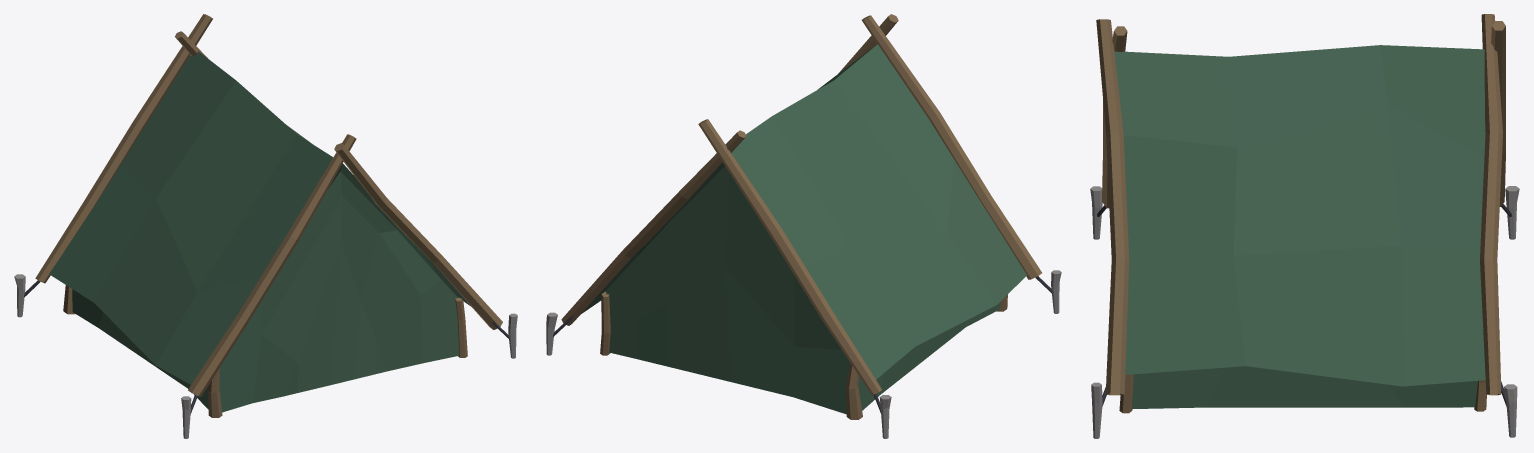
The model's file is tent_3.glb.
3 views of the same model, side by side, from view 1: azimuth 30°, elevation 25°; view 2: azimuth 150°, elevation 25°; view 3: azimuth 270°, elevation 25° (orthographic). The views are drawn at different scales.
Parts seen in each view (by area): view 1: tent_3; view 2: tent_3; view 3: tent_3.
Boxes of the visible parts, x1,y1,x2,y2 form: tent_3: (14, 14, 517, 438); tent_3: (546, 14, 1061, 438); tent_3: (1090, 14, 1519, 438).
Bounding box in the file's own units: 2.36 × 1.76 × 2.09.
Materials: 1 (1 with a texture image).
